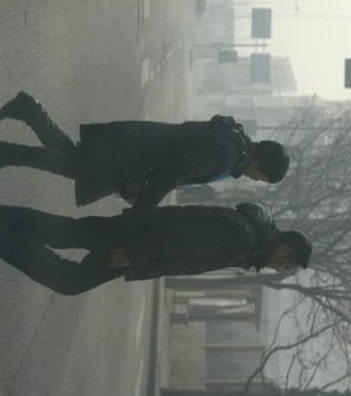person: (1, 82, 305, 205), (1, 206, 313, 299)
